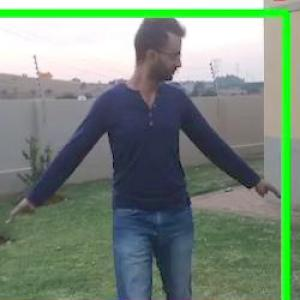land: (1, 6, 288, 299)
